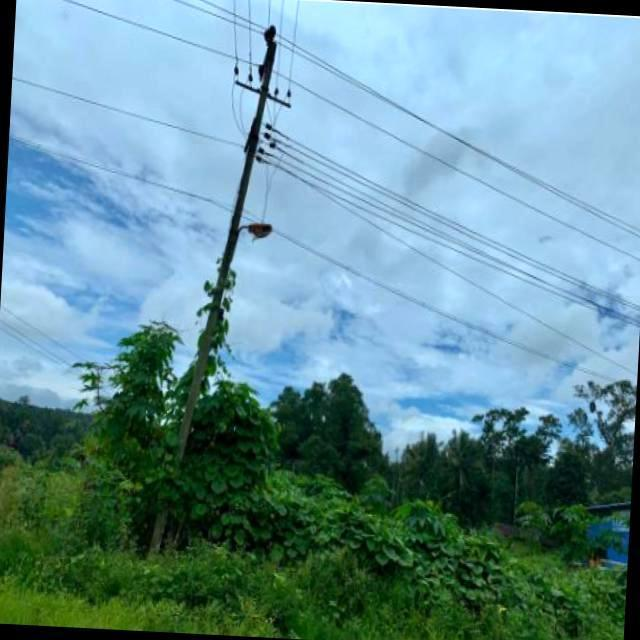critical vegetation: (178, 243, 241, 386)
